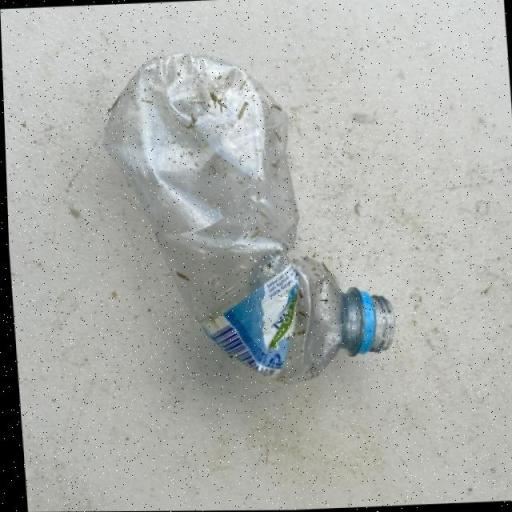plastic: (94, 44, 396, 392)
